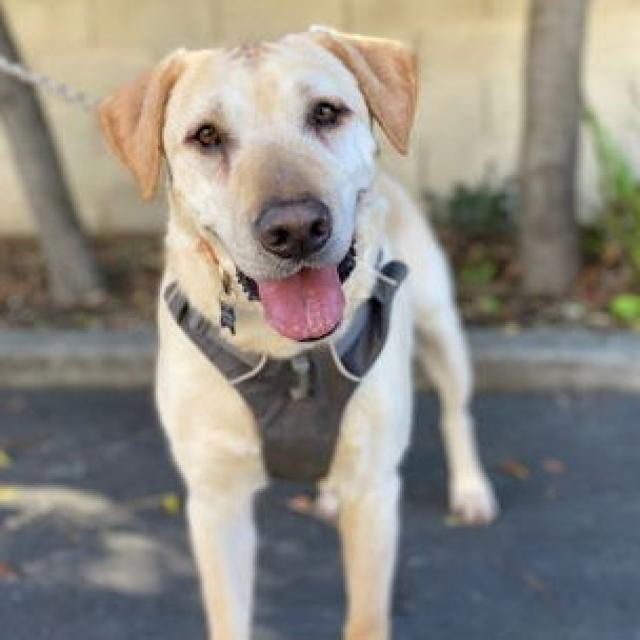labrador_retriever_dog: (82, 18, 452, 376)
